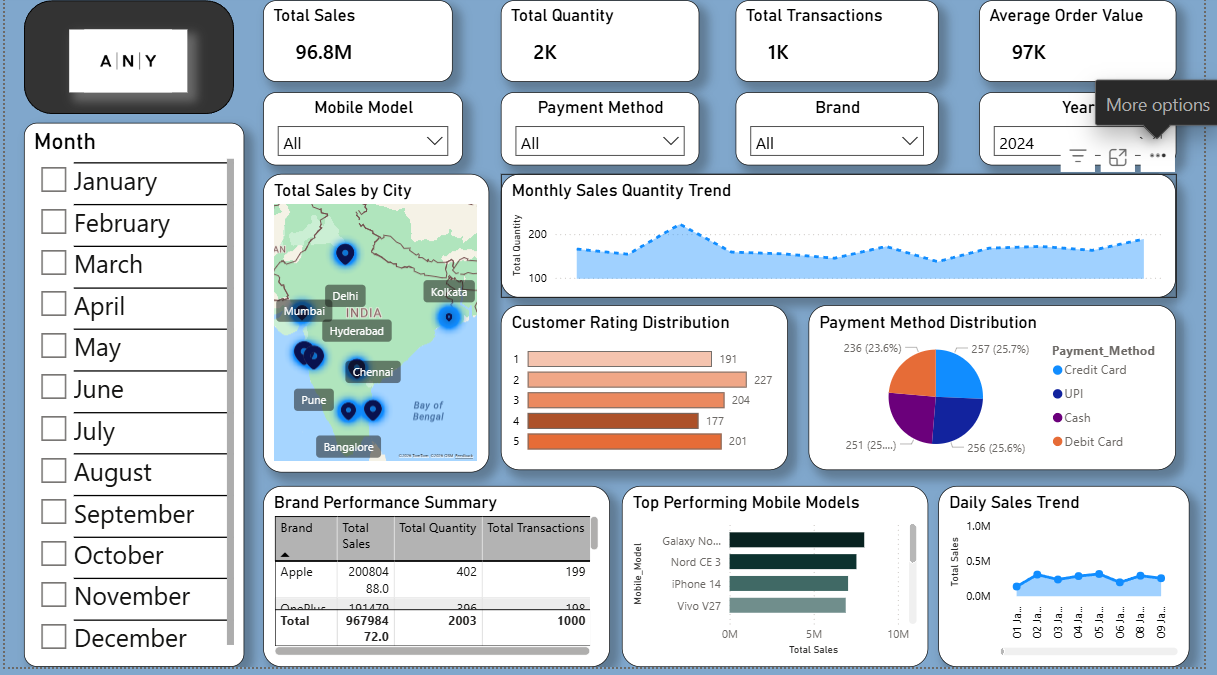

The dashboard page shown, as its layout file describes it:
{"tool":"powerbi","page":{"name":"Page 1","canvas":[1280,720],"ordinal":0},"visuals":[{"type":"cardVisual","title":"Total Sales","fields":{"Data":["Mobile_Sales_Data.Total Sales"]},"box":[275.6,7.8,202.4,87.2],"z":0},{"type":"cardVisual","title":"Total Quantity","fields":{"Data":["Mobile_Sales_Data.Total Quantity"]},"box":[529.4,7.8,211.7,87.2],"z":1000},{"type":"cardVisual","title":"Total Transactions","fields":{"Data":["Mobile_Sales_Data.Total Transactions"]},"box":[780,7.8,216.4,87.2],"z":2000},{"type":"cardVisual","title":"Average Order Value","fields":{"Data":["Mobile_Sales_Data.Average Sales"]},"box":[1040.1,7.8,210.2,87.2],"z":3000},{"type":"slicer","title":"Mobile Model","fields":{"Values":["Mobile_Sales_Data.Mobile_Model"]},"box":[275.6,105.9,213.3,77.8],"z":4000},{"type":"slicer","title":"Payment Method","fields":{"Values":["Mobile_Sales_Data.Payment_Method"]},"box":[529.4,105.9,211.7,77.8],"z":5000},{"type":"slicer","title":"Brand","fields":{"Values":["Mobile_Sales_Data.Brand"]},"box":[780,105.9,216.4,77.8],"z":6000},{"type":"slicer","title":"Year","fields":{"Values":["Mobile_Sales_Data.Year"]},"box":[1040.1,105.9,210.2,77.8],"z":7000},{"type":"slicer","title":"Month","fields":{"Values":["Mobile_Sales_Data.Month"]},"box":[20.2,138.6,235.1,580.7],"z":8000},{"type":"azureMap","fields":{"Category":["Mobile_Sales_Data.City"],"Size":["Mobile_Sales_Data.Total Sales"]},"box":[275.6,193.1,241.3,319.2],"z":9000},{"type":"lineChart","title":"Monthly Sales Quantity Trend","fields":{"Category":["Mobile_Sales_Data.Month"],"Y":["Mobile_Sales_Data.Total Quantity"]},"box":[529.4,193.1,720.9,132.3],"z":10000},{"type":"barChart","title":"Customer Rating Distribution","fields":{"Y":["CountNonNull(Mobile_Sales_Data.Transaction_ID)"],"Category":["Mobile_Sales_Data.Customer_Rating"]},"box":[529.4,333.2,306.7,175.9],"z":11000},{"type":"pieChart","title":"Payment Method Distribution","fields":{"Category":["Mobile_Sales_Data.Payment_Method"],"Y":["CountNonNull(Mobile_Sales_Data.Transaction_ID)"]},"box":[857.9,333.2,392.4,175.9],"z":12000},{"type":"tableEx","title":"Brand Performance Summary","fields":{"Values":["Mobile_Sales_Data.Brand","Mobile_Sales_Data.Total Sales","Mobile_Sales_Data.Total Quantity","Mobile_Sales_Data.Total Transactions"]},"box":[275.6,526.3,370.6,193.1],"z":13000},{"type":"barChart","title":"Top Performing Mobile Models","fields":{"Category":["Mobile_Sales_Data.Mobile_Model"],"Y":["Mobile_Sales_Data.Total Sales"]},"box":[658.6,526.3,327,193.1],"z":14000},{"type":"lineChart","title":"Daily Sales Trend","fields":{"Y":["Mobile_Sales_Data.Total Sales"],"Category":["Mobile_Sales_Data.Date"]},"box":[996.5,526.3,267.8,193.1],"z":15000},{"type":"shape","box":[20.2,7.8,224.2,121.4],"z":15001},{"type":"image","box":[68.5,38.9,126.1,66.9],"z":15002}]}

Visuals, with their boxes in screenshot pixels (x1, y1, x2, y2):
"Total Sales" cardVisual: {"left": 261, "top": 1, "right": 448, "bottom": 81}
"Total Quantity" cardVisual: {"left": 496, "top": 1, "right": 692, "bottom": 81}
"Total Transactions" cardVisual: {"left": 728, "top": 1, "right": 928, "bottom": 81}
"Average Order Value" cardVisual: {"left": 968, "top": 1, "right": 1162, "bottom": 81}
"Mobile Model" slicer: {"left": 261, "top": 92, "right": 458, "bottom": 164}
"Payment Method" slicer: {"left": 496, "top": 92, "right": 692, "bottom": 164}
"Brand" slicer: {"left": 728, "top": 92, "right": 928, "bottom": 164}
"Year" slicer: {"left": 968, "top": 92, "right": 1162, "bottom": 164}
"Month" slicer: {"left": 25, "top": 122, "right": 242, "bottom": 659}
azureMap - Mobile_Sales_Data.City x Mobile_Sales_Data.Total Sales: {"left": 261, "top": 172, "right": 484, "bottom": 467}
"Monthly Sales Quantity Trend" lineChart: {"left": 496, "top": 172, "right": 1162, "bottom": 295}
"Customer Rating Distribution" barChart: {"left": 496, "top": 302, "right": 779, "bottom": 464}
"Payment Method Distribution" pieChart: {"left": 800, "top": 302, "right": 1162, "bottom": 464}
"Brand Performance Summary" tableEx: {"left": 261, "top": 480, "right": 604, "bottom": 659}
"Top Performing Mobile Models" barChart: {"left": 615, "top": 480, "right": 918, "bottom": 659}
"Daily Sales Trend" lineChart: {"left": 928, "top": 480, "right": 1175, "bottom": 659}
shape: {"left": 25, "top": 1, "right": 232, "bottom": 113}
image: {"left": 70, "top": 30, "right": 186, "bottom": 91}
